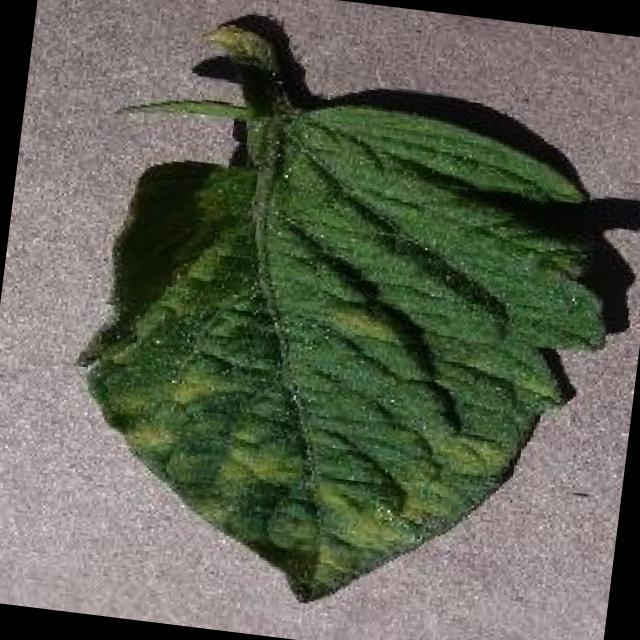Tomato mold leaf: (53, 73, 632, 634)
